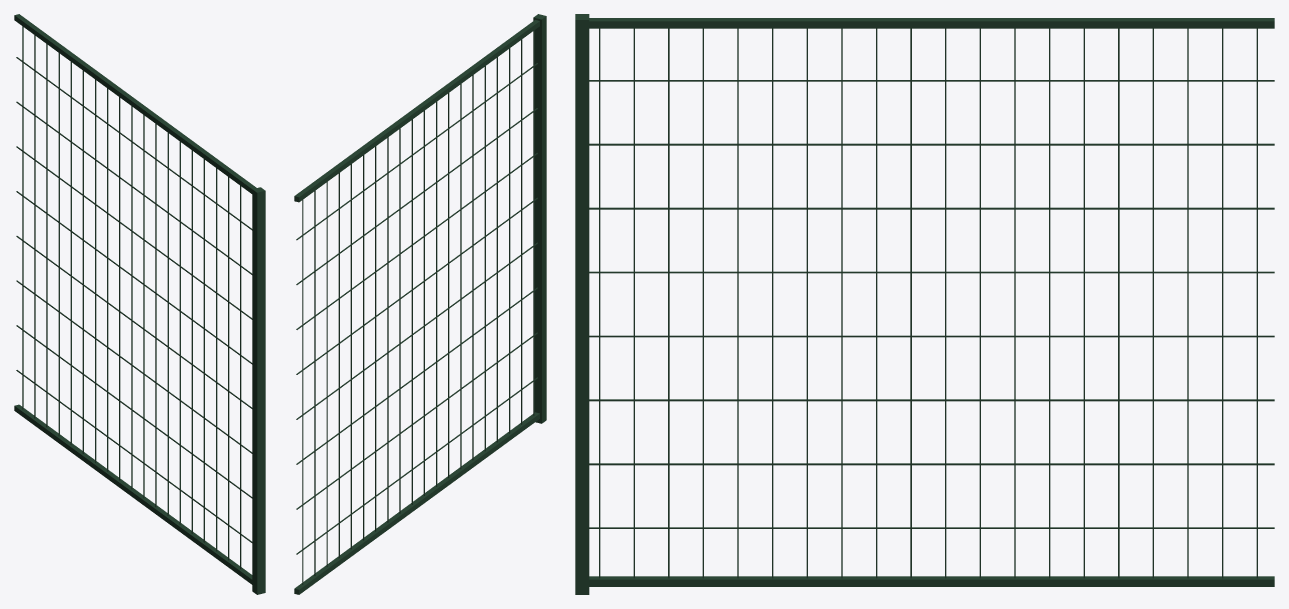
The model's file is sport.court.fence_panel.glb.
The picture shows the model from 3 angles, left to right: view 1: azimuth 30°, elevation 25°; view 2: azimuth 150°, elevation 25°; view 3: azimuth 270°, elevation 25°; orthographic projection. The views are drawn at different scales.
Parts seen in each view (by area): view 1: main__paint_243; view 2: main__paint_243; view 3: main__paint_243.
Part boxes in pixels (x1,y1,x2,y2): main__paint_243: [14, 14, 265, 594]; main__paint_243: [294, 14, 546, 594]; main__paint_243: [575, 14, 1274, 594].
Bounding box in the file's own units: 0.06 × 2.75 × 3.03.
